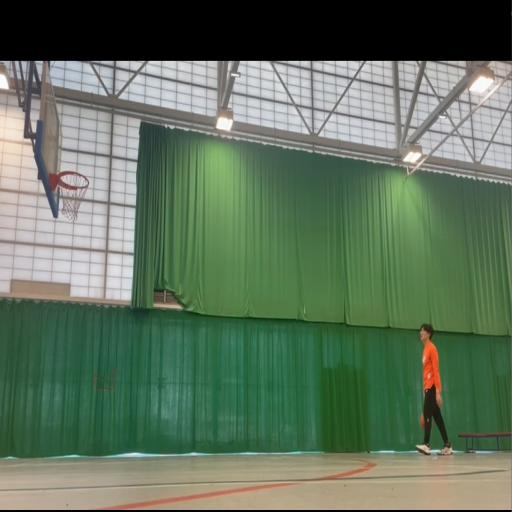hoops: (53, 160, 91, 228)
